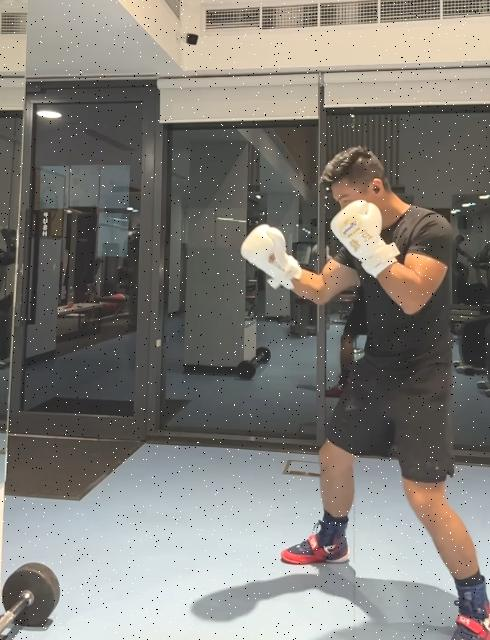punch: (238, 146, 490, 640)
